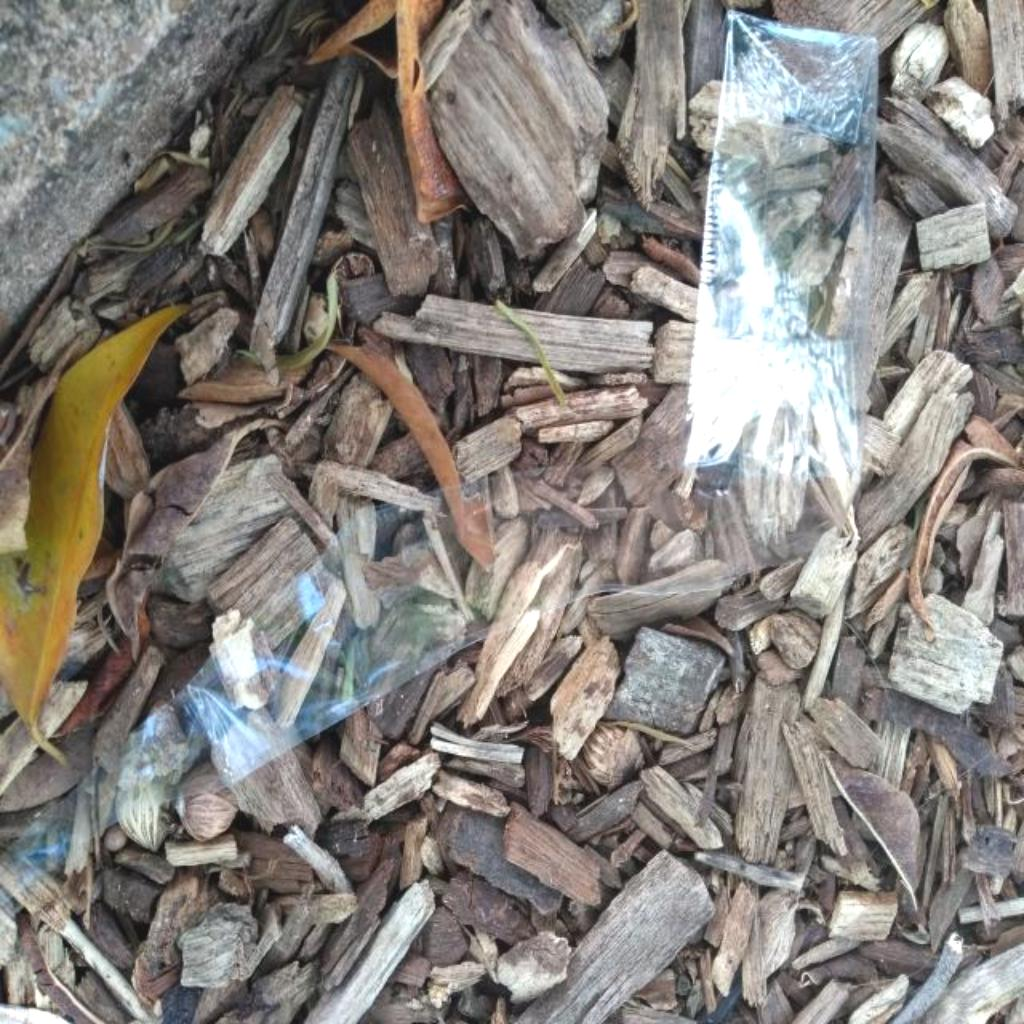garbage: (678, 16, 889, 523)
